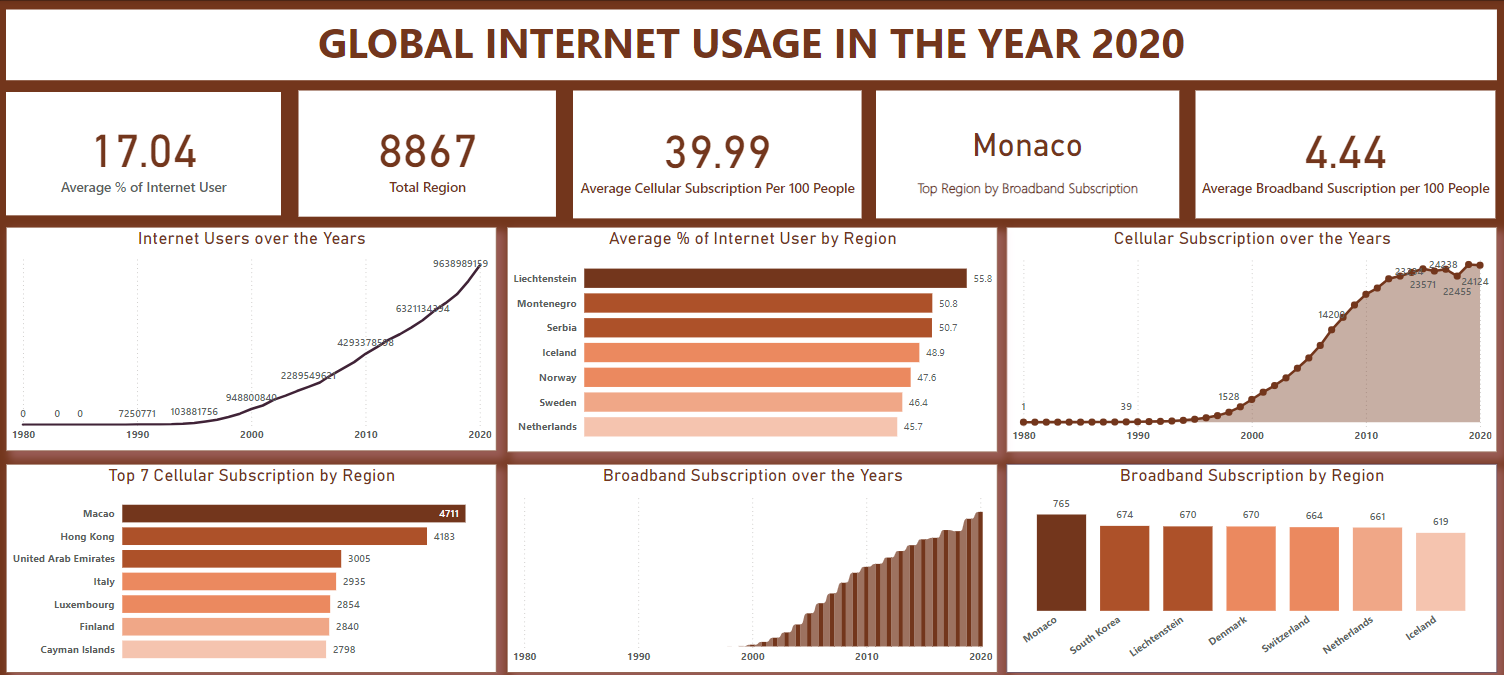

Layout of this report page (visuals, bound fields, positions):
{"tool":"powerbi","page":{"name":"Page 1","canvas":[1820,800],"ordinal":0},"visuals":[{"type":"textbox","box":[10.6,12.4,1756.7,83.1],"z":0},{"type":"lineChart","title":"Internet Users over the Years","fields":{"Category":["Final.Year"],"Y":["Sum(Final.No. of Internet Users)"]},"box":[10.8,269.3,578.2,263.9],"z":1000},{"type":"barChart","title":"Top 7 Cellular Subscription by Region","fields":{"Category":["Final.Entity"],"Y":["Sum(Final.Cellular Subscription)"]},"box":[10.6,547.9,578,246],"z":2000},{"type":"areaChart","title":"Cellular Subscription over the Years","fields":{"Category":["Final.Year"],"Y":["Sum(Final.Cellular Subscription)"]},"box":[1189.4,268.6,577.9,265.1],"z":3000},{"type":"ribbonChart","title":"Broadband Subscription over the Years","fields":{"Category":["Final.Year"],"Y":["Sum(Final.Broadband Subscription)"]},"box":[601.5,547.6,578.2,246],"z":4000},{"type":"columnChart","title":"Broadband Subscription by Region","fields":{"Y":["Sum(Final.Broadband Subscription)"],"Category":["Final.Entity"]},"box":[1189.4,547.9,577.9,246],"z":5000},{"type":"card","fields":{"Values":["Final.Average % of Internet User"]},"box":[10.5,109.5,324.3,145.3],"z":6000},{"type":"clusteredBarChart","title":"Average % of Internet User by Region","fields":{"Category":["Final.Entity"],"Y":["Final.Average % of Internet User"]},"box":[600.9,268.6,577.9,265.1],"z":7000},{"type":"card","fields":{"Values":["Final.Total Region"]},"box":[355.2,107.7,303.6,148.6],"z":8000},{"type":"card","fields":{"Values":["Final.Average Cellular Subscription"]},"box":[678.2,107.7,340.2,150.7],"z":8001},{"type":"textbox","box":[1035.6,107.7,357.4,150.7],"z":8002},{"type":"card","fields":{"Values":["Final.Average Broadband Suscription per 100 People"]},"box":[1412.4,107.7,353.1,150.7],"z":8003}]}

Visuals, with their boxes in screenshot pixels (x1, y1, x2, y2), scaled from the page's 1820x800 canvas onto the 1504x675 screenshot:
textbox: crop(9, 10, 1460, 81)
"Internet Users over the Years" lineChart: crop(9, 227, 487, 450)
"Top 7 Cellular Subscription by Region" barChart: crop(9, 462, 486, 670)
"Cellular Subscription over the Years" areaChart: crop(983, 227, 1460, 450)
"Broadband Subscription over the Years" ribbonChart: crop(497, 462, 975, 670)
"Broadband Subscription by Region" columnChart: crop(983, 462, 1460, 670)
card - Final.Average % of Internet User: crop(9, 92, 277, 215)
"Average % of Internet User by Region" clusteredBarChart: crop(497, 227, 974, 450)
card - Final.Total Region: crop(294, 91, 544, 216)
card - Final.Average Cellular Subscription: crop(560, 91, 842, 218)
textbox: crop(856, 91, 1151, 218)
card - Final.Average Broadband Suscription per 100 People: crop(1167, 91, 1459, 218)
